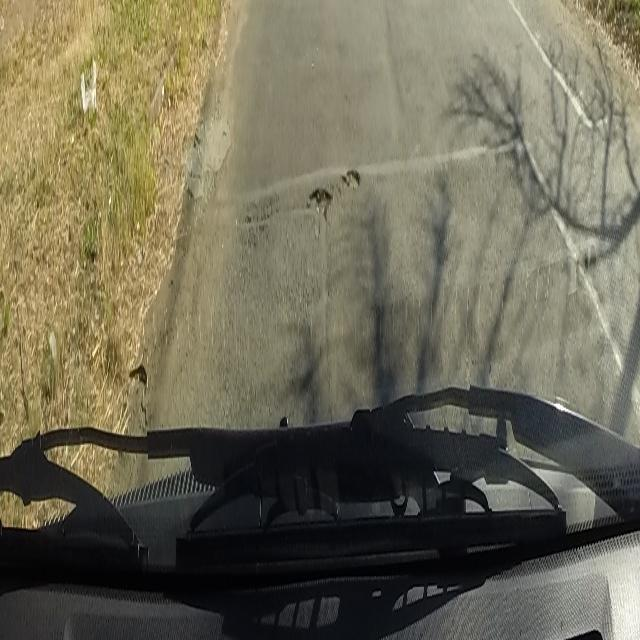pothole: (307, 162, 362, 220)
